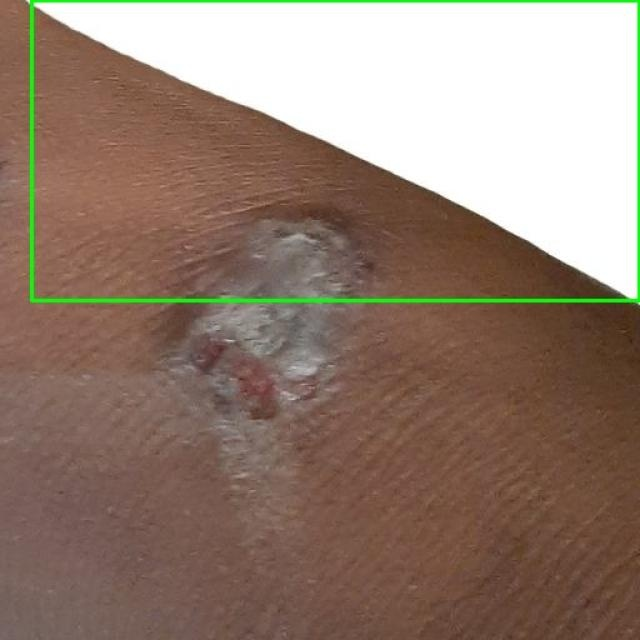Contact Dermatitis: (31, 0, 639, 300)
